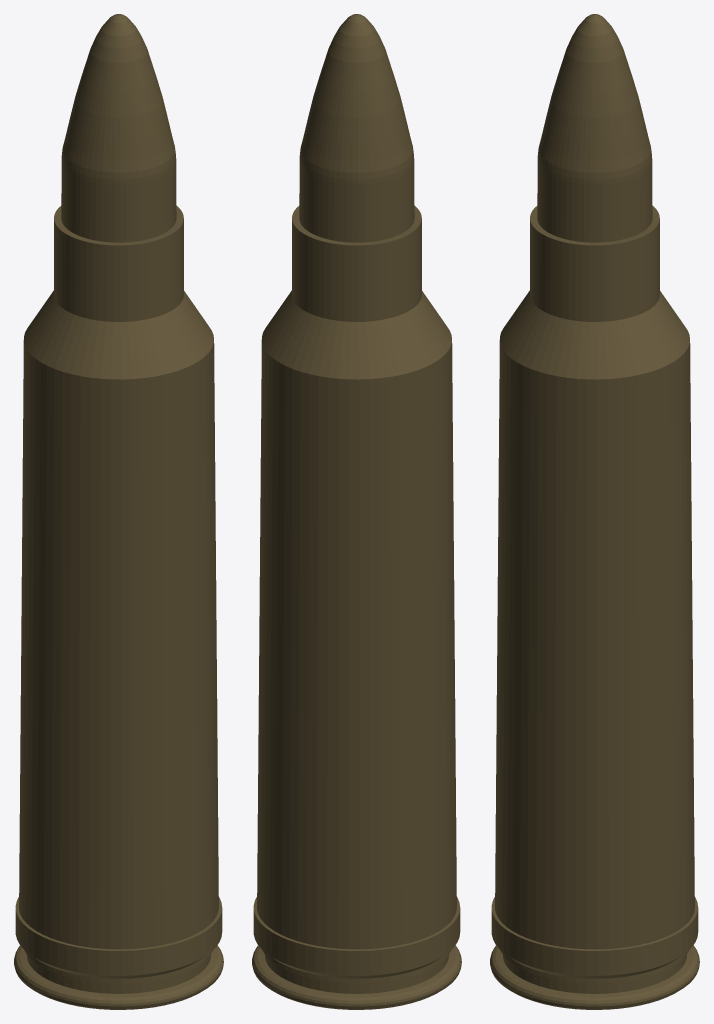
3 renders of one model, left to right at view 1: azimuth 30°, elevation 25°; view 2: azimuth 150°, elevation 25°; view 3: azimuth 270°, elevation 25°, orthographic.
Parts seen in each view (by area): view 1: Boole; view 2: Boole; view 3: Boole.
Boxes of the visible parts, bbox=[...] form: Boole: bbox=[14, 14, 223, 1009]; Boole: bbox=[252, 14, 461, 1009]; Boole: bbox=[490, 14, 699, 1009].
Bounding box in the file's own units: 86.02 × 430 × 85.99.
